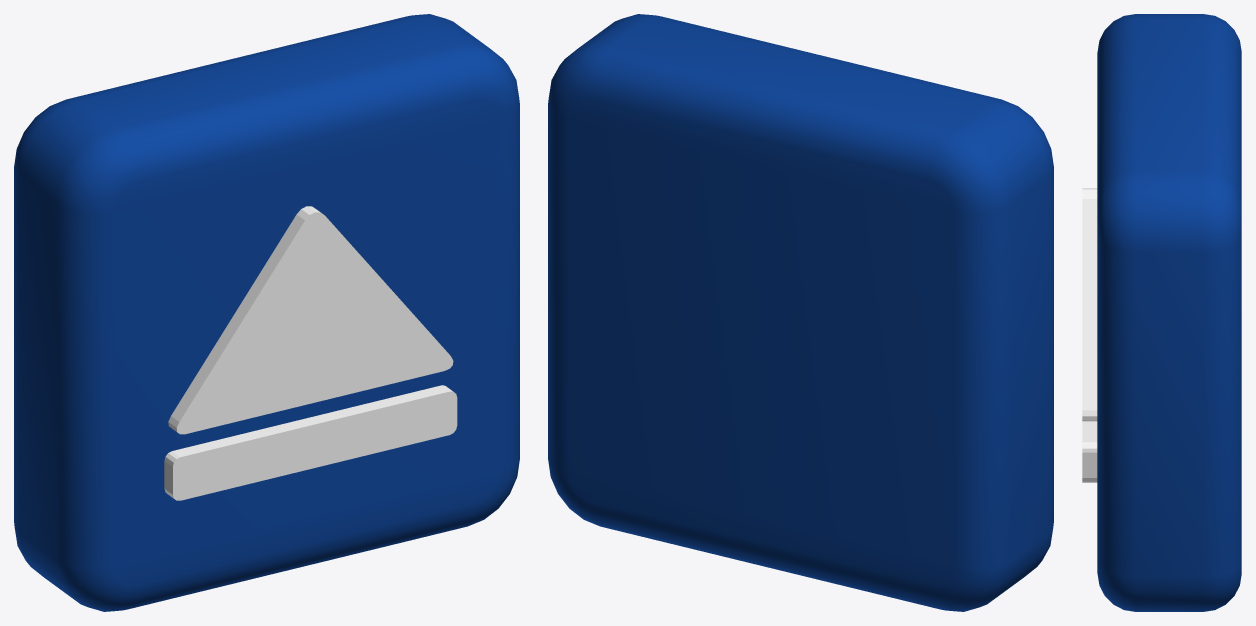
The model's file is eject_button.glb.
3 renders of one model, left to right at view 1: azimuth 30°, elevation 25°; view 2: azimuth 150°, elevation 25°; view 3: azimuth 270°, elevation 25°, orthographic. The views are drawn at different scales.
Parts seen in each view (by area): view 1: Cube.6433; view 2: Cube.6433; view 3: Cube.6433.
Part boxes in pixels (x1,y1,x2,y2): Cube.6433: (14, 14, 519, 611); Cube.6433: (548, 14, 1053, 611); Cube.6433: (1082, 14, 1241, 611).
Bounding box in the file's own units: 2.2 × 2.2 × 0.73.
Materials: 1 (1 with a texture image).
